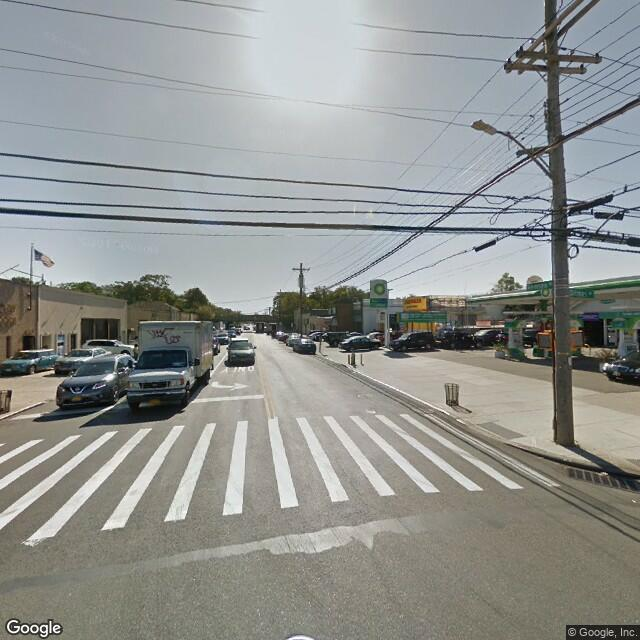litter: (629, 496, 636, 503), (367, 408, 375, 412), (601, 469, 606, 475)
